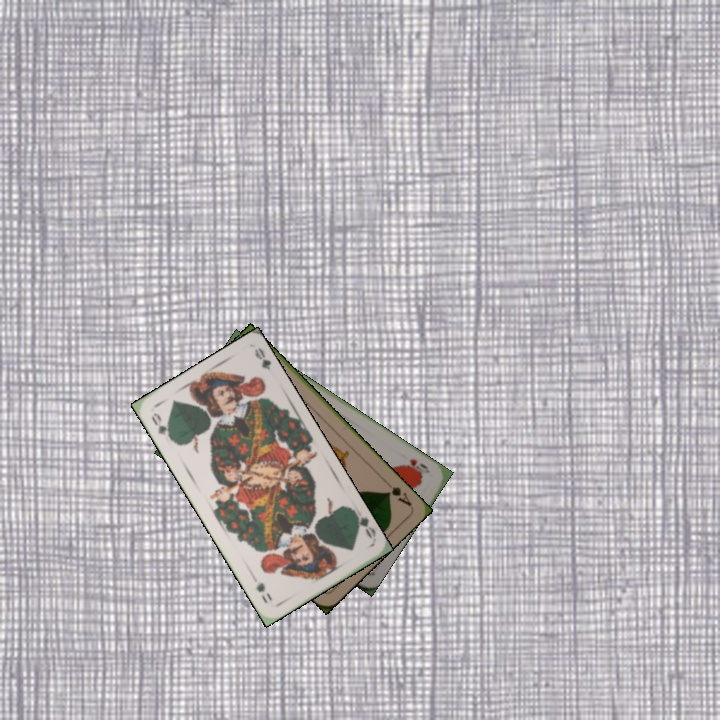GA: (381, 477, 414, 509)
GO: (147, 408, 176, 444), (350, 507, 378, 542)
HO: (399, 455, 433, 479)
